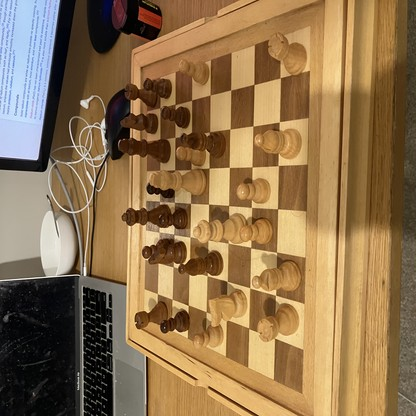bishop_black: (180, 132, 226, 157), (178, 251, 222, 276)
bishop_white: (252, 260, 301, 292), (254, 128, 301, 160)
king_black: (118, 139, 171, 164)
king_white: (149, 170, 207, 195)
knight_black: (120, 113, 158, 134), (149, 242, 187, 263)
knight_white: (208, 290, 248, 325)
pawn_black: (161, 105, 191, 128), (161, 309, 190, 332), (159, 209, 188, 231), (144, 79, 172, 98), (142, 239, 171, 257)
pawn_white: (240, 218, 273, 244), (237, 179, 270, 203), (179, 60, 210, 85), (194, 325, 223, 348), (177, 146, 206, 165)
queen_black: (121, 206, 170, 225)
queen_white: (193, 214, 248, 245)
rock_black: (134, 302, 167, 329), (124, 83, 160, 107)
rock_white: (267, 32, 307, 75), (257, 305, 299, 342)
